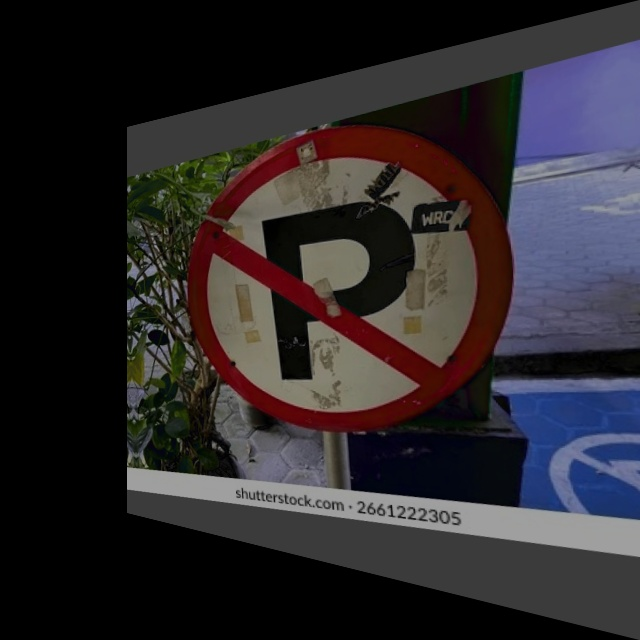No_Parking: (182, 78, 517, 452)
